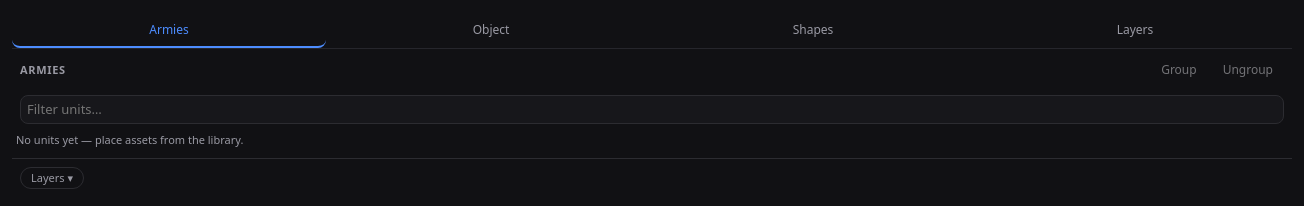
RightPanel › switches to the Object tab (Inspector) and back to Armies
The width and height of the screenshot is (1304, 206).
Click the tab with test id "tab-object". click: (491, 30)
box: [334, 12, 648, 48]
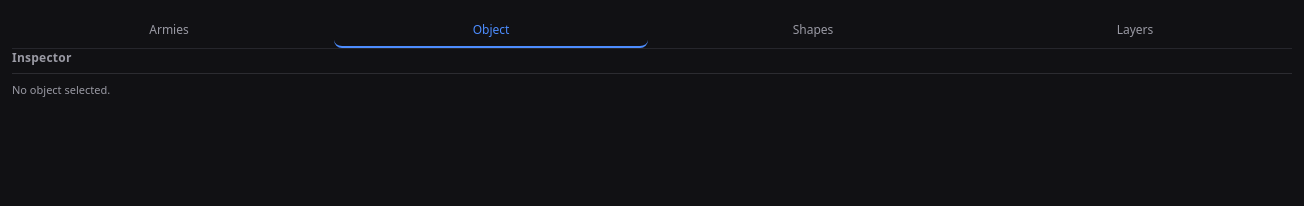
Check: the text "No object selected." is shown, box [12, 82, 110, 97]
Click the tab with test id "tab-armies". click: (169, 30)
box: [12, 12, 326, 48]
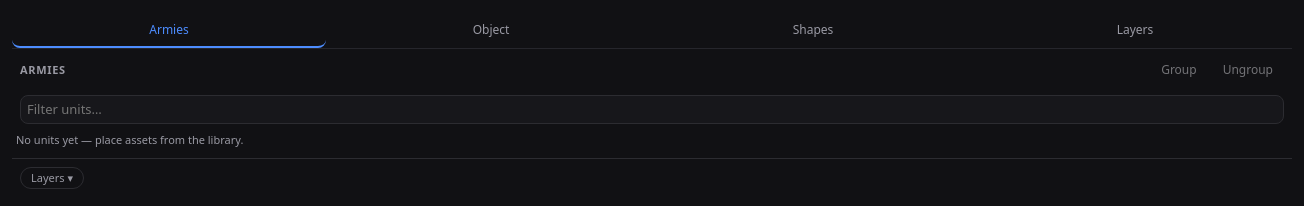
Check: the element with test id "armies-tree" is shown, box [16, 132, 243, 147]
